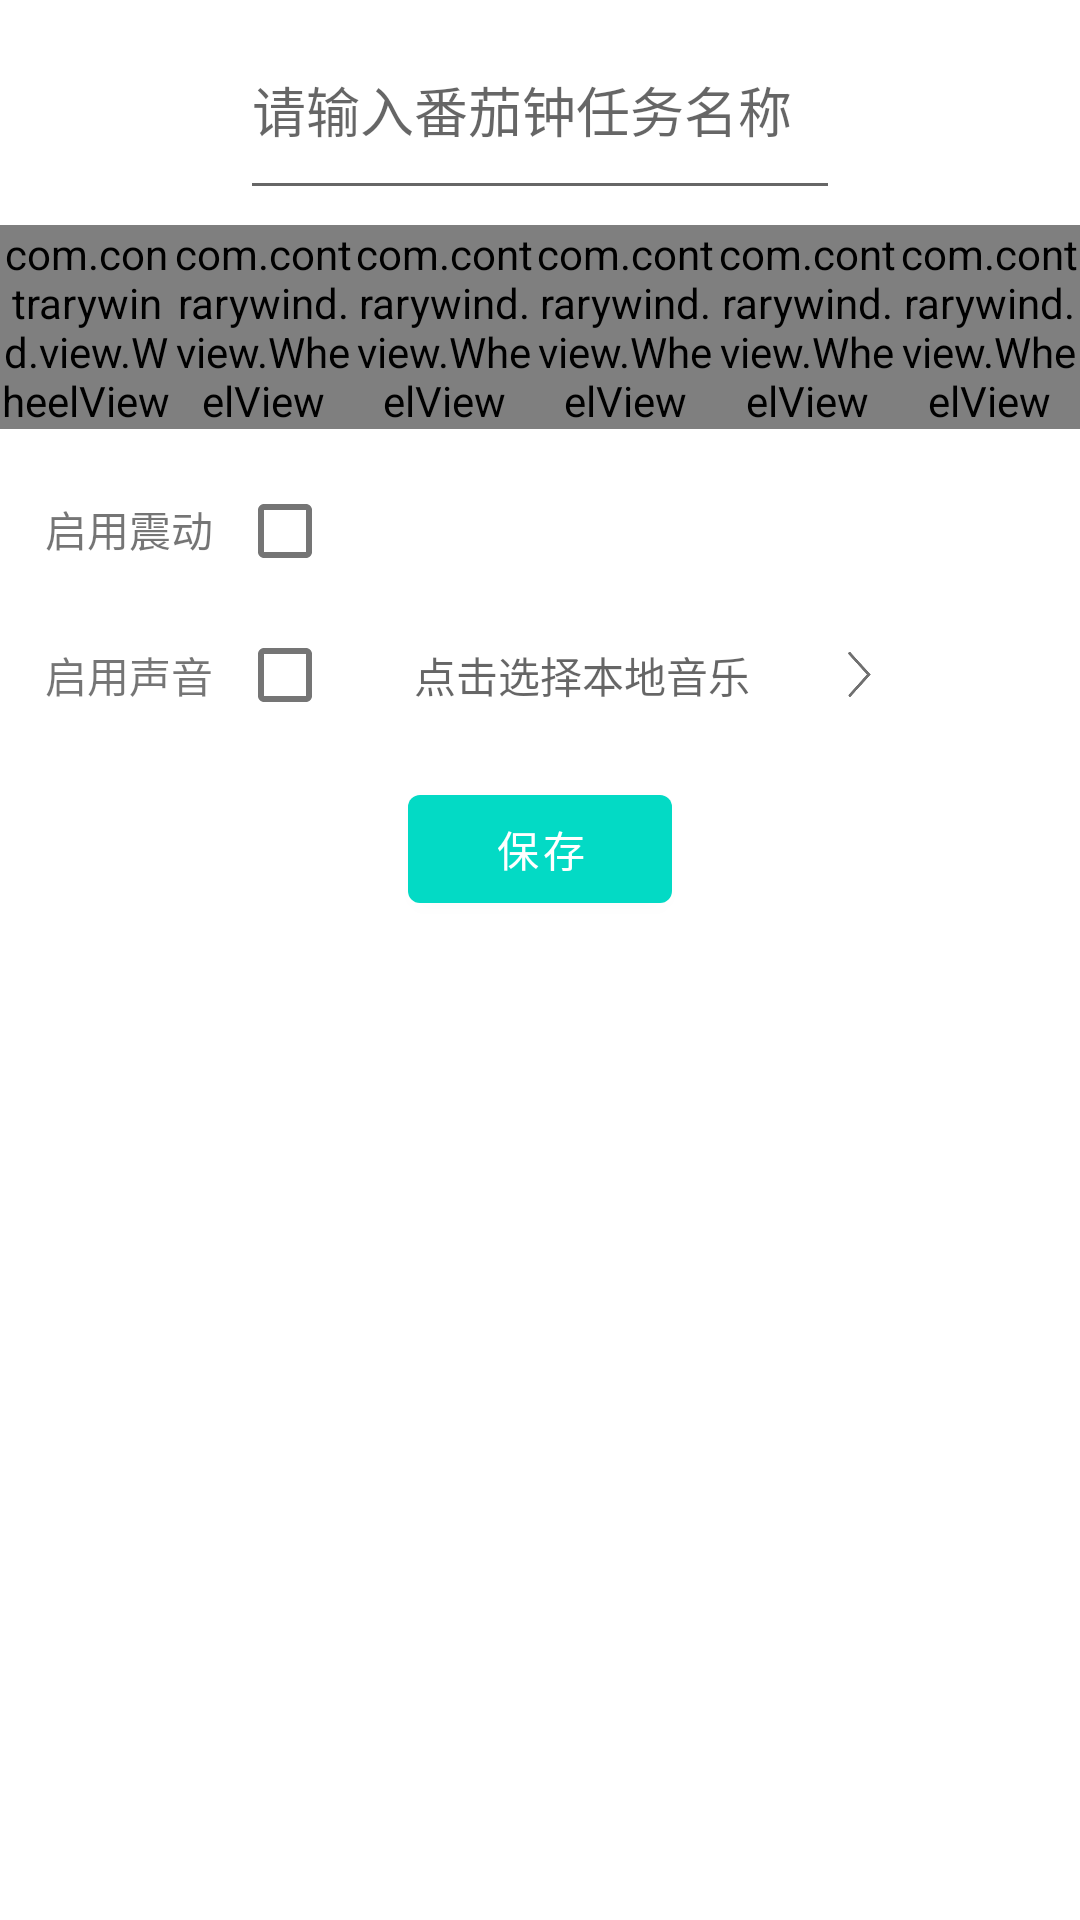

Named icons in this screenshot (1080px×1920px) and their bounding boxes, (x1, y1, x2, y2):
arrow: (848, 652, 871, 697)
